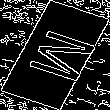M_SE: (13, 24, 97, 86)
